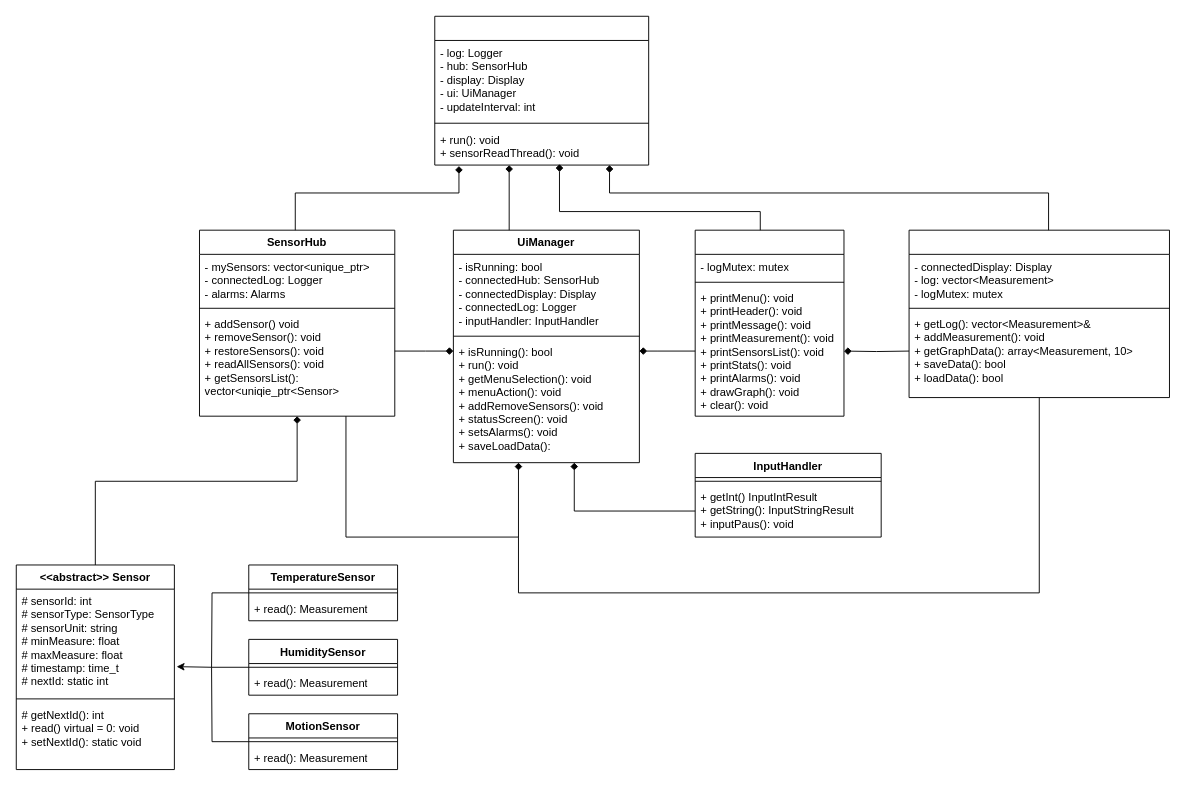
This 1186x789 diagram has some shape labels left out. Here are the shapes that lost their labels. From the top down, the box of each, then its label:
(434, 15, 649, 165): SystemManager
(694, 229, 844, 416): Display
(908, 229, 1169, 398): Logger
